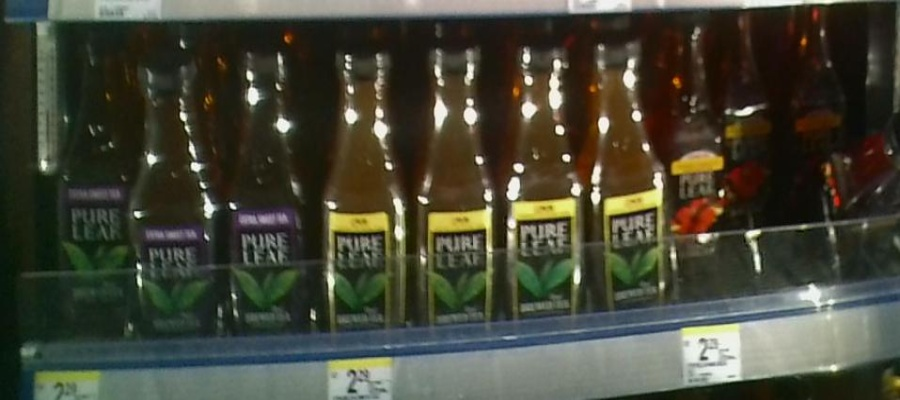bottle: (224, 43, 317, 342), (501, 33, 590, 336), (132, 46, 222, 341), (413, 40, 500, 344), (321, 46, 410, 343), (54, 29, 132, 335), (592, 30, 671, 330), (671, 22, 724, 266), (725, 10, 773, 209), (829, 115, 900, 204)
